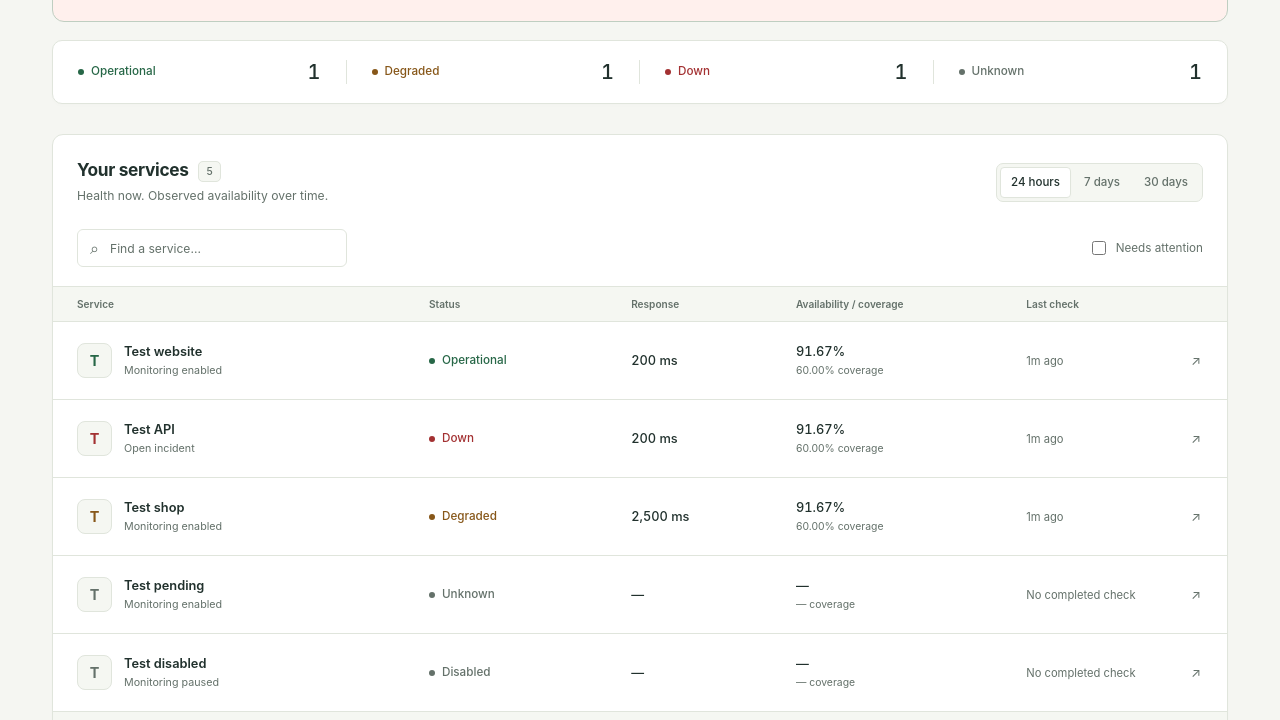
Test: monitoring workspace › explains history without observations and an incident-free service
(page scrolled)
Expected: the link with aria-label "View Test API, Down" is shown, [53,399,1227,477]
Click the link with aria-label "View Test website, Operational" at (640, 360), box [53,321,1227,399]
(page scrolled)
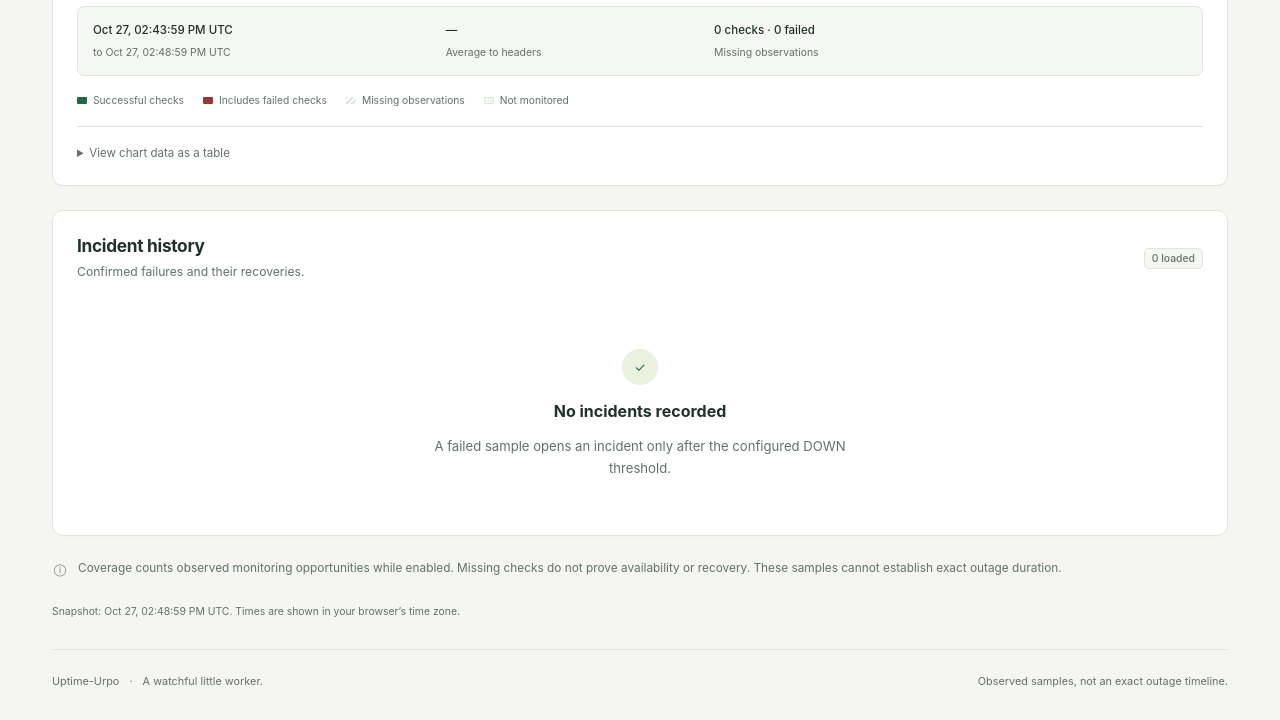
Expected: the heading "No incidents recorded" is shown, [554,402,726,422]
